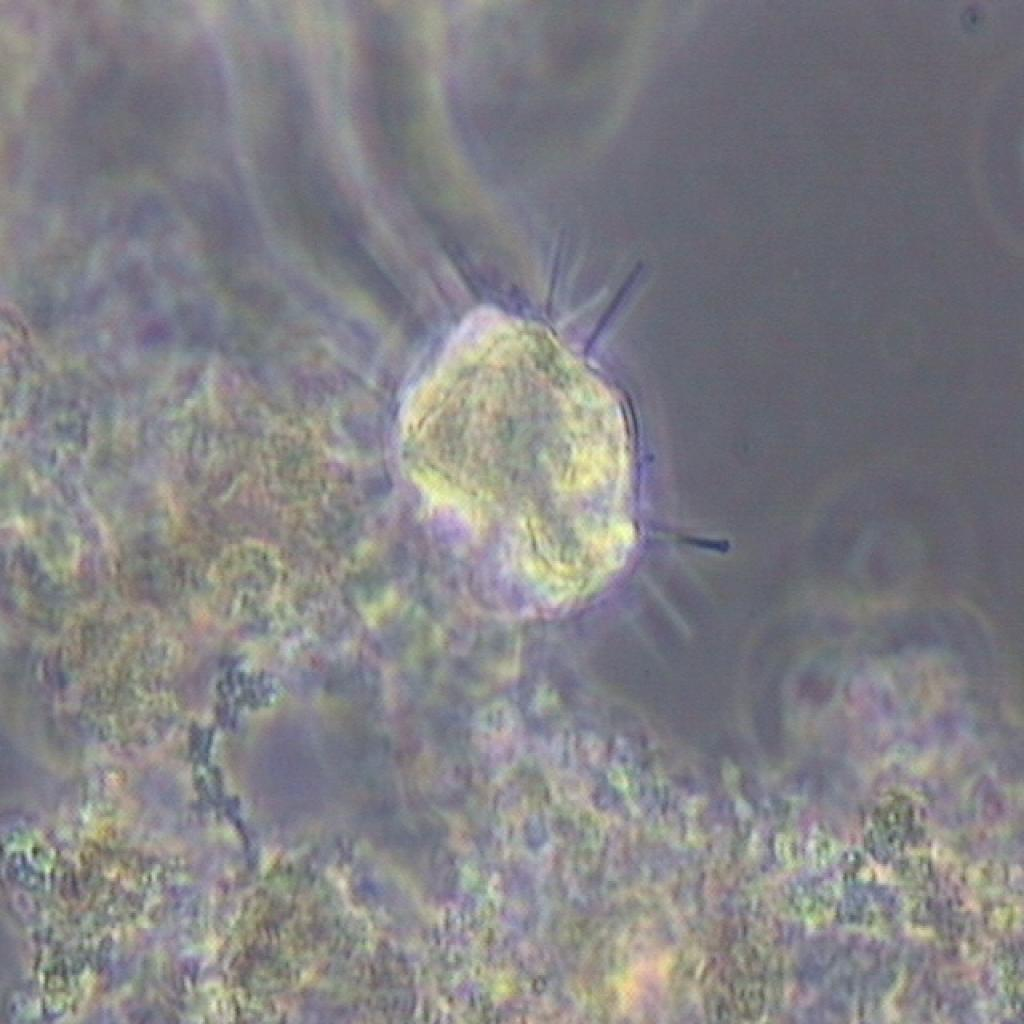Suctorida: (303, 178, 742, 692)
